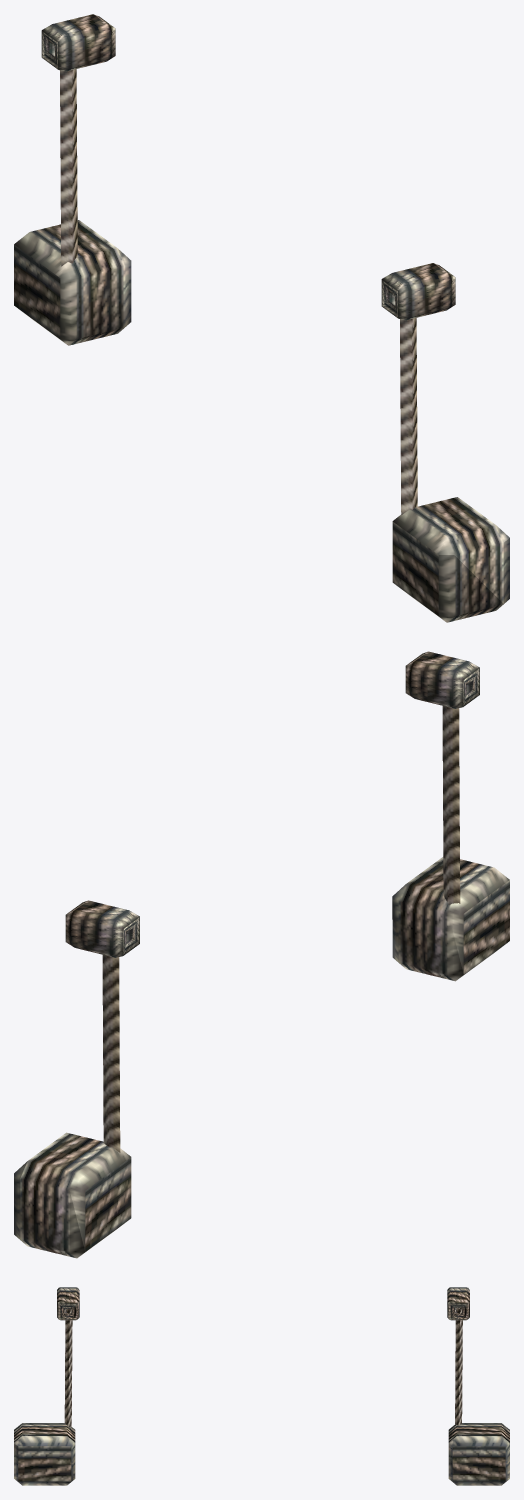
Rendered from brige1_1.glb.
3 views of the same model, one above another, from view 1: azimuth 30°, elevation 25°; view 2: azimuth 150°, elevation 25°; view 3: azimuth 270°, elevation 25° (orthographic). The views are drawn at different scales.
Visible parts, largest first — view 1: brige1_1; view 2: brige1_1; view 3: brige1_1.
Boxes of the visible parts, x1=… form: brige1_1: x1=14, y1=14, x2=509, y2=622; brige1_1: x1=14, y1=651, x2=509, y2=1258; brige1_1: x1=14, y1=1287, x2=509, y2=1485.
Size of the model in its own units: 0.5023 by 1.99 by 4.92.
Materials: 1 (1 with a texture image).
